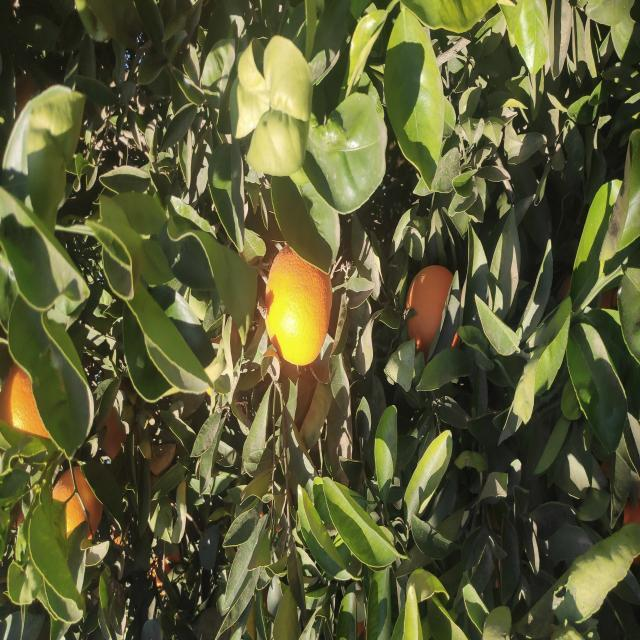Jeruk Sudah Matang: (272, 264, 396, 335), (82, 47, 176, 101), (287, 406, 378, 460), (190, 1, 278, 55)
